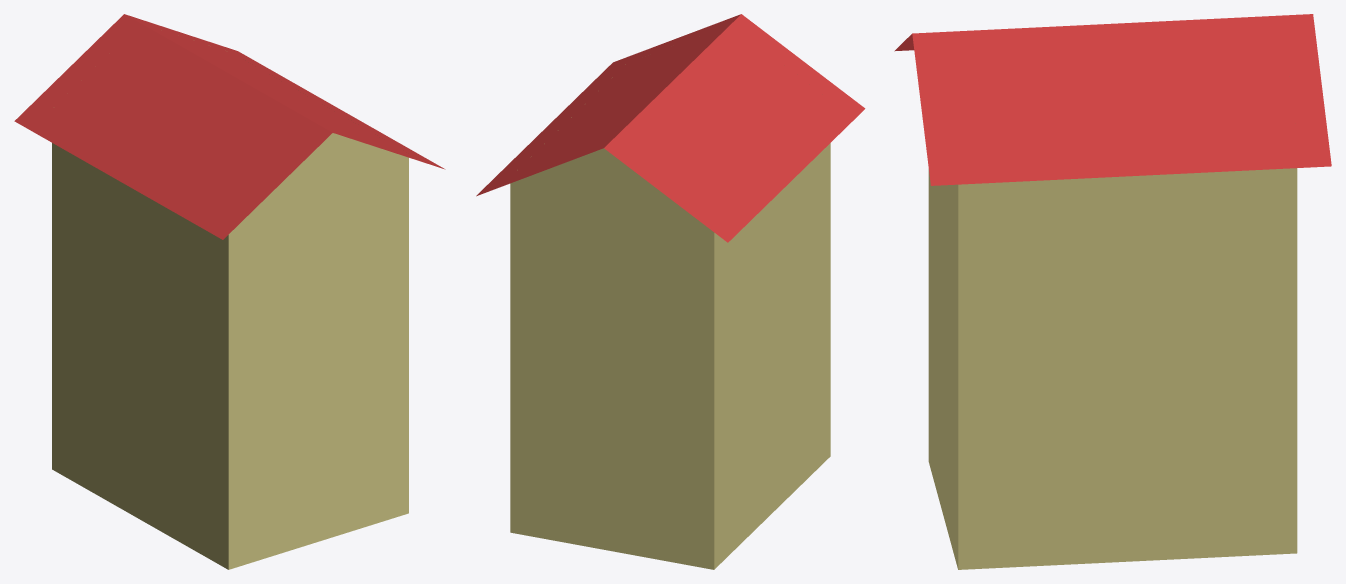
The picture shows the model from 3 angles, left to right: view 1: azimuth 30°, elevation 25°; view 2: azimuth 150°, elevation 25°; view 3: azimuth 270°, elevation 25°; orthographic projection. The views are drawn at different scales.
Size of the model in its own units: 5.89 by 7.06 by 8.58.
